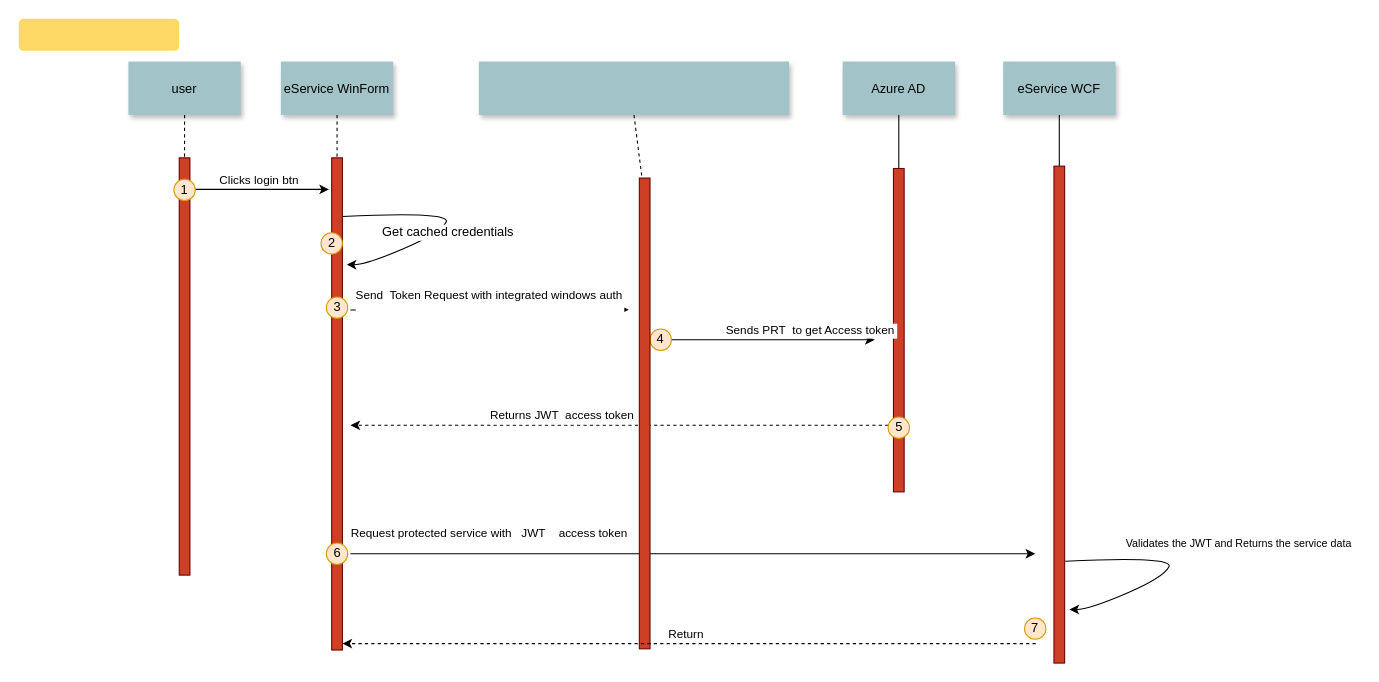
This 1379x682 diagram has some shape labels left out. Here are the shapes that lost their labels. From the top down, the centre of each, then its label:
[98,34]: Authentication Azure AD
[634,89]: Azure AD joined Computer or Hybrid Joined (Win 10)
